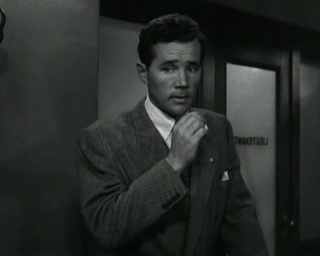face: (151, 50, 202, 115)
ms: (1, 1, 320, 256)
person: (76, 14, 256, 256)
